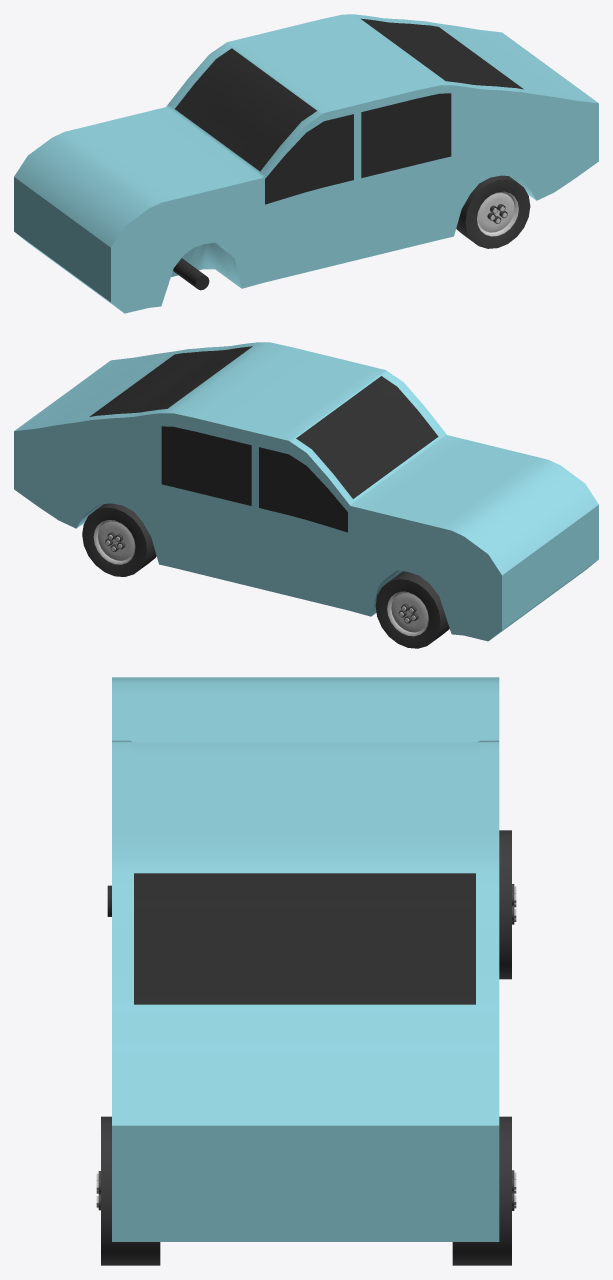
The model's file is Car_3Tires.fbx.
The picture shows the model from 3 angles, top to bottom: view 1: azimuth 30°, elevation 25°; view 2: azimuth 150°, elevation 25°; view 3: azimuth 270°, elevation 25°; orthographic projection. The views are drawn at different scales.
Visible parts, largest first — view 1: Lugnut10; view 2: Lugnut10; view 3: Lugnut10.
Part boxes in pixels (x1,y1,x2,y2): Lugnut10: [14, 14, 598, 313]; Lugnut10: [14, 342, 598, 648]; Lugnut10: [96, 677, 516, 1265].
Bounding box in the file's own units: 124 × 42.41 × 46.1.
